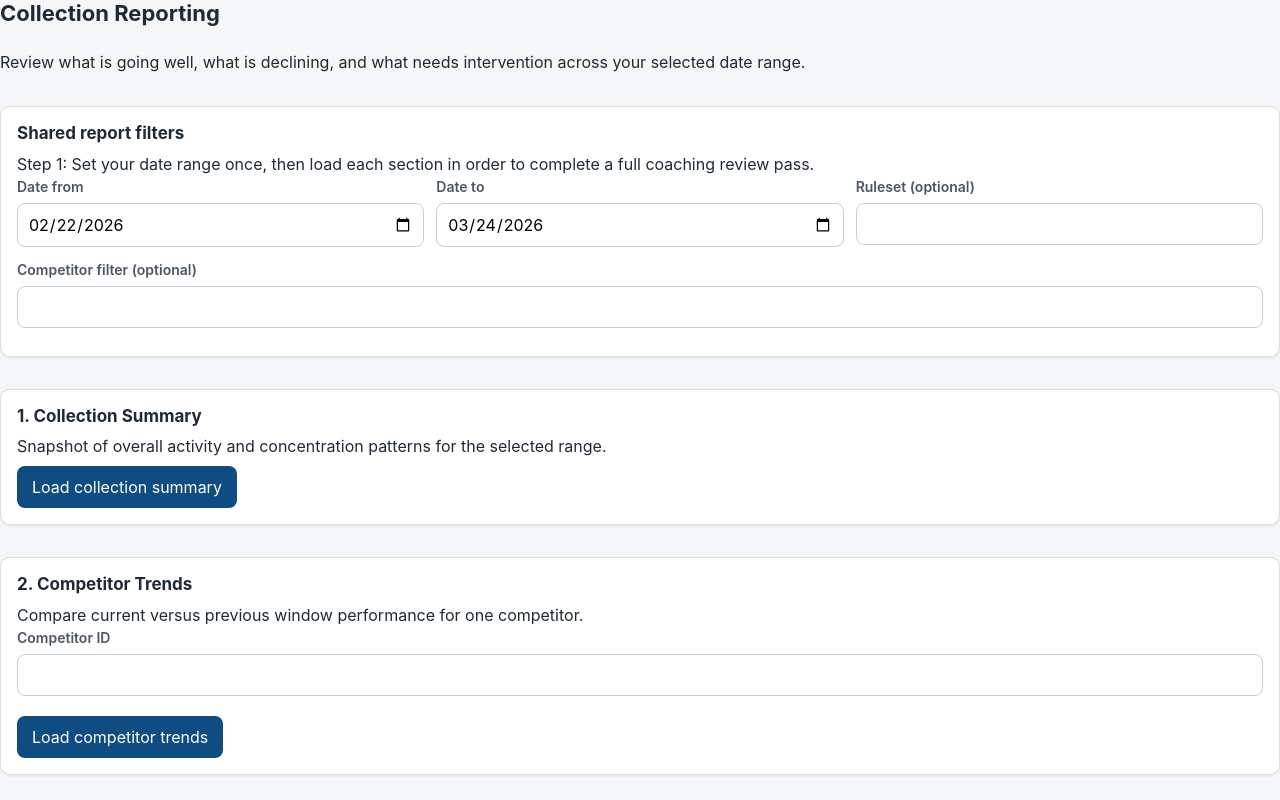
Test: ReportsPage › shows API failure states
The width and height of the screenshot is (1280, 800).
Click the button "Load collection summary": (127, 487) [17,466,237,508]
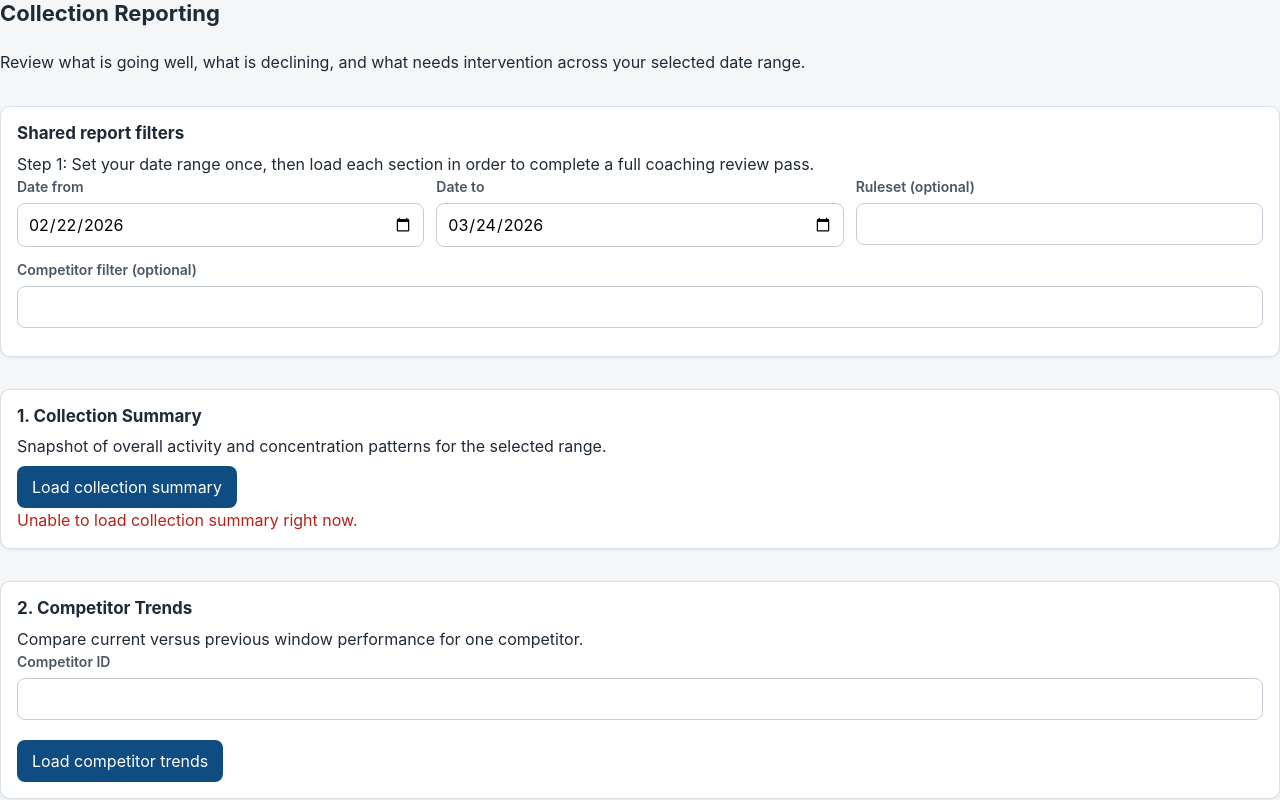
Expected: the text "Unable to load collection summary right now." is shown, [17,510,358,530]
